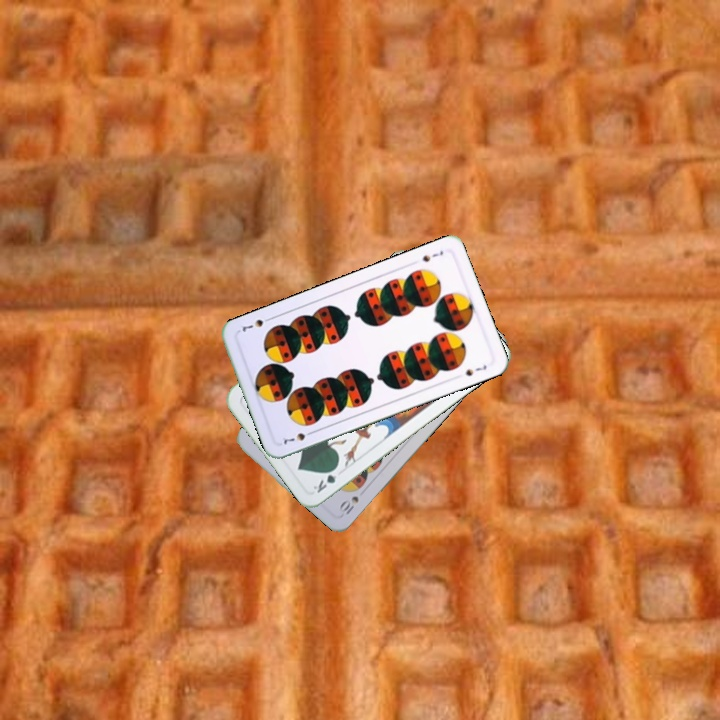GK: (309, 462, 342, 496)
S10: (337, 492, 361, 517)
S7: (279, 427, 317, 447), (418, 246, 446, 264)
